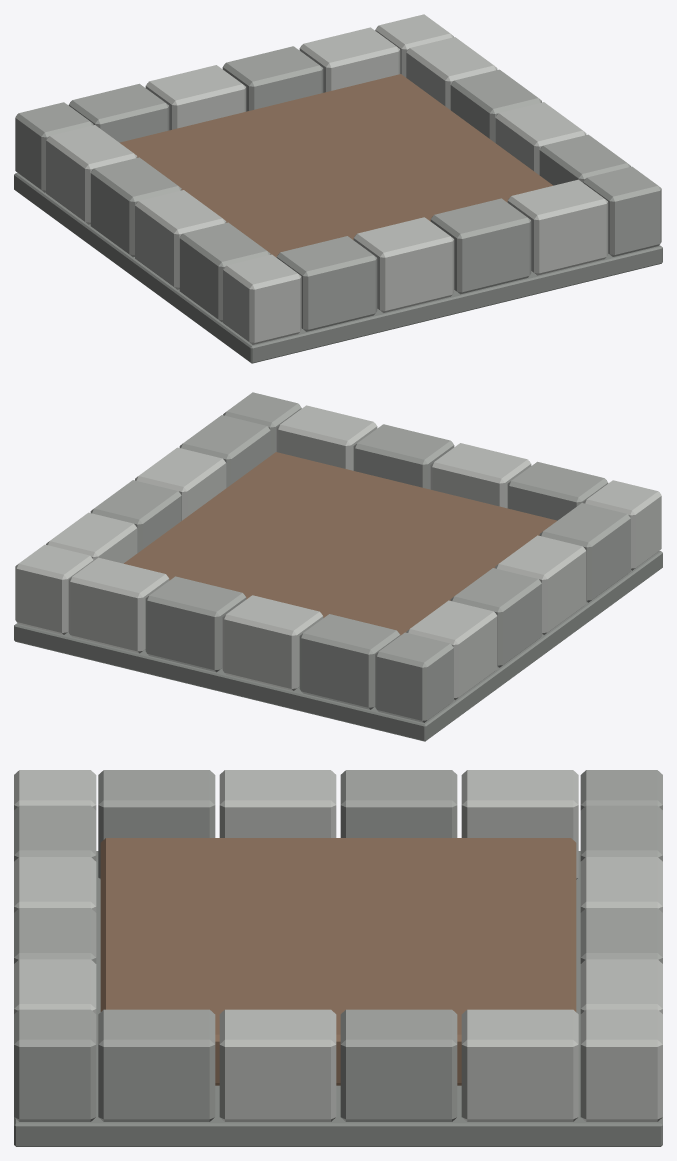
Rendered from TreePlanter.glb.
3 renders of one model, top to bottom at view 1: azimuth 30°, elevation 25°; view 2: azimuth 150°, elevation 25°; view 3: azimuth 270°, elevation 25°, orthographic. The views are drawn at different scales.
Visible parts, largest first — view 1: TownTreePlanter_StaticMesh; view 2: TownTreePlanter_StaticMesh; view 3: TownTreePlanter_StaticMesh.
Part boxes in pixels (x1=…): TownTreePlanter_StaticMesh: x1=14, y1=14, x2=662, y2=363; TownTreePlanter_StaticMesh: x1=14, y1=392, x2=662, y2=741; TownTreePlanter_StaticMesh: x1=14, y1=770, x2=662, y2=1146.
Size of the model in its own units: 3 by 0.54 by 3.
